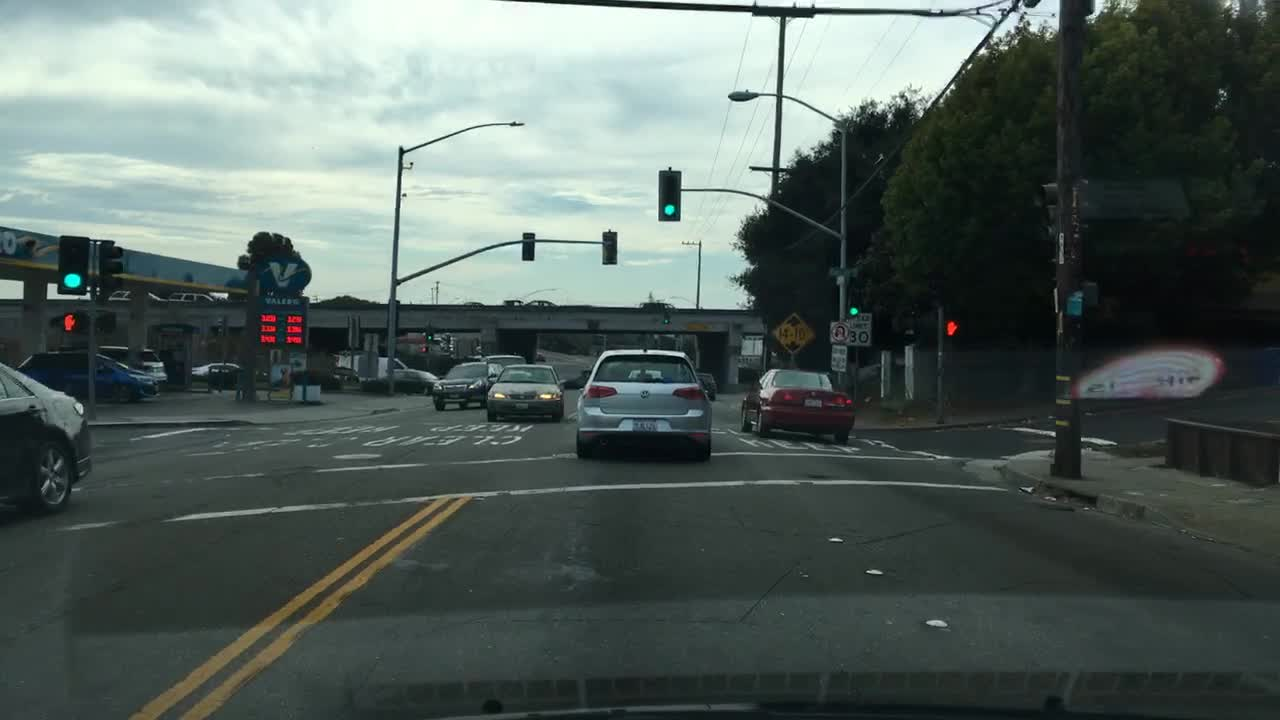car: (573, 348, 713, 462), (0, 358, 91, 517), (740, 367, 856, 442), (14, 349, 160, 401), (484, 363, 564, 422), (431, 361, 507, 410), (339, 355, 436, 393), (98, 341, 167, 388), (188, 360, 243, 379), (290, 371, 340, 391), (556, 363, 586, 389), (691, 371, 716, 402), (107, 289, 165, 302), (483, 352, 525, 368), (170, 291, 214, 302), (638, 301, 664, 310), (522, 298, 554, 305), (504, 297, 524, 306), (464, 301, 483, 305)
traffic light: (1034, 178, 1063, 244), (59, 234, 88, 295), (97, 239, 123, 300), (659, 169, 680, 220), (57, 308, 85, 335), (601, 231, 617, 263), (96, 311, 116, 331), (522, 231, 534, 261), (944, 318, 958, 341), (848, 302, 859, 318), (662, 308, 670, 327), (426, 327, 433, 341)
traffic sign: (771, 311, 815, 355), (848, 313, 872, 346), (829, 344, 848, 371), (358, 355, 378, 378), (831, 319, 848, 343), (346, 315, 358, 348), (364, 332, 381, 351), (829, 267, 857, 276)
